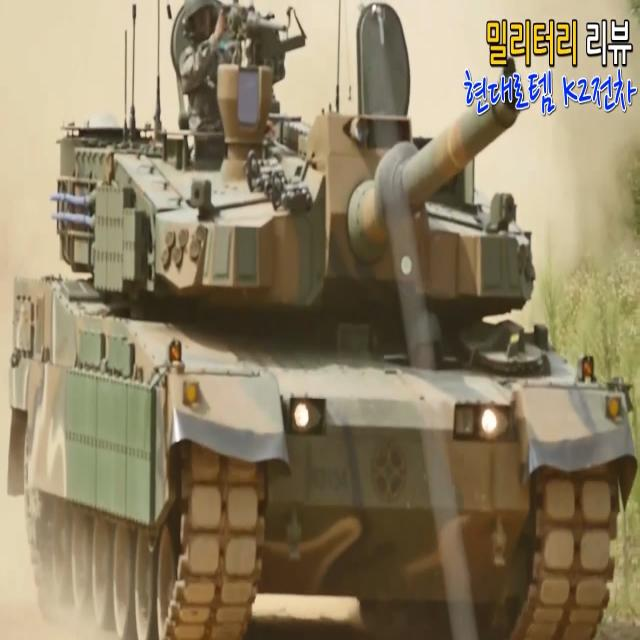korea tank: (7, 1, 637, 639)
